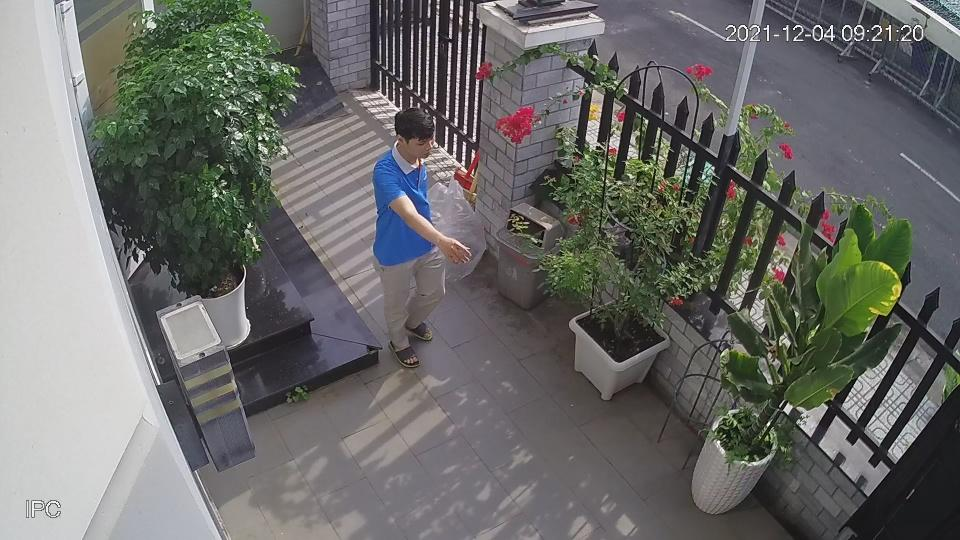person: (373, 109, 472, 366)
